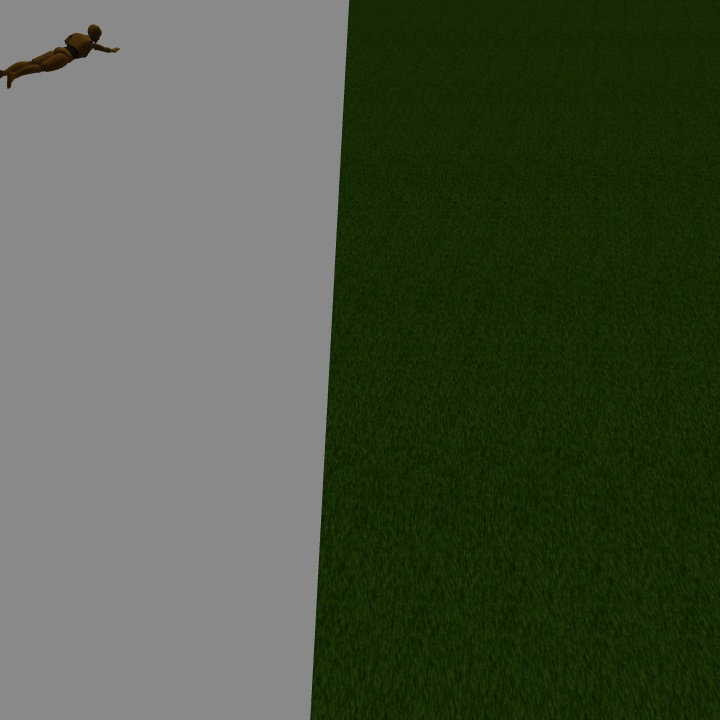victim: (1, 24, 122, 88)
